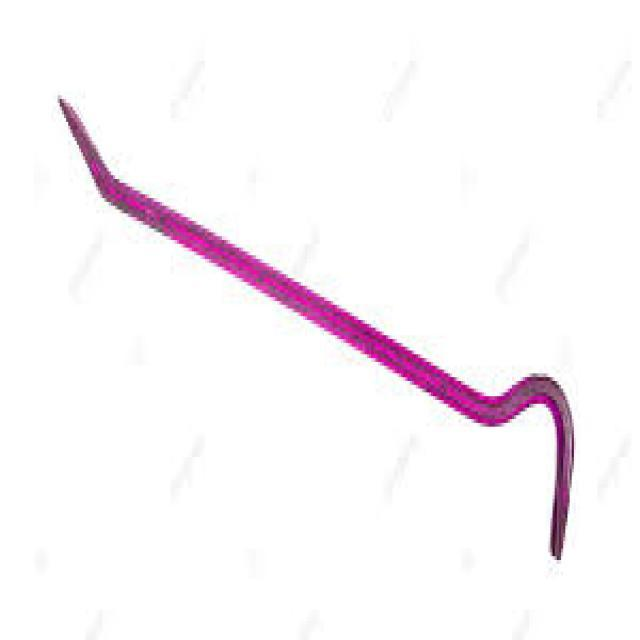Linggis: (52, 88, 582, 582)
